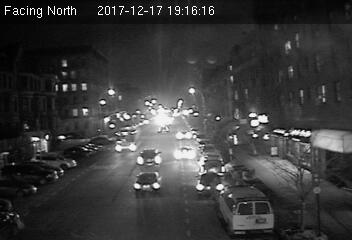car: (196, 170, 224, 196), (132, 171, 163, 192), (136, 148, 163, 167), (176, 146, 196, 162), (174, 129, 191, 140)
police: (216, 184, 273, 234)
truck: (114, 127, 138, 153)
